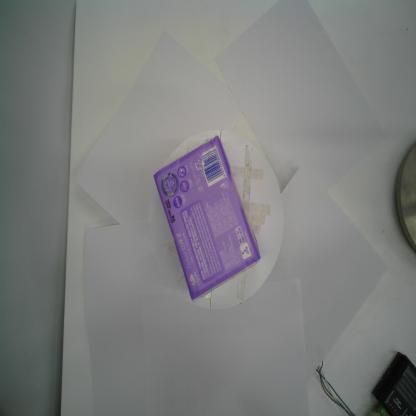Tissue: (149, 133, 262, 304)
